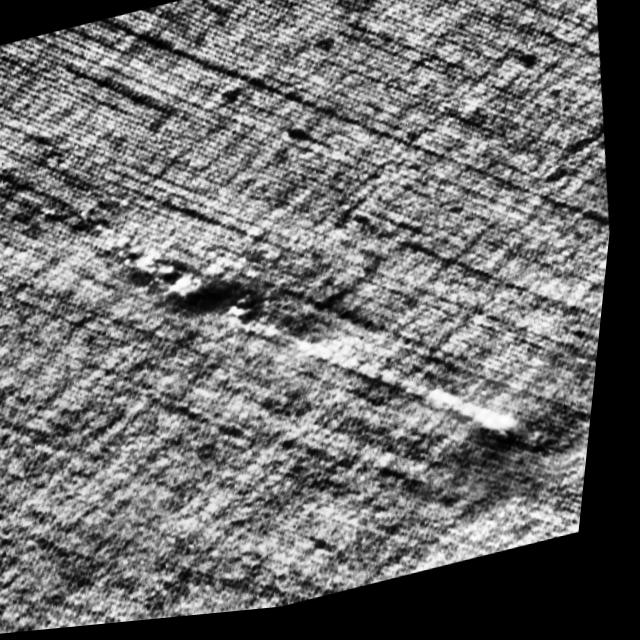Stitch: (33, 94, 628, 587)
